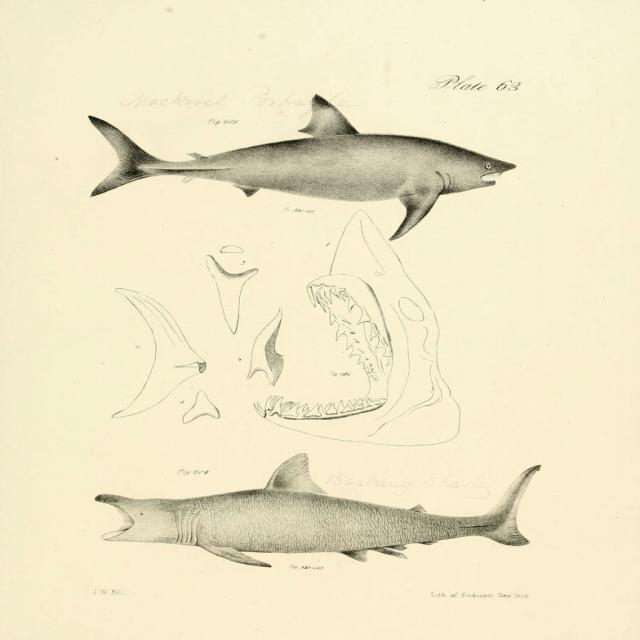Shark: (90, 91, 512, 242), (94, 452, 542, 568)
